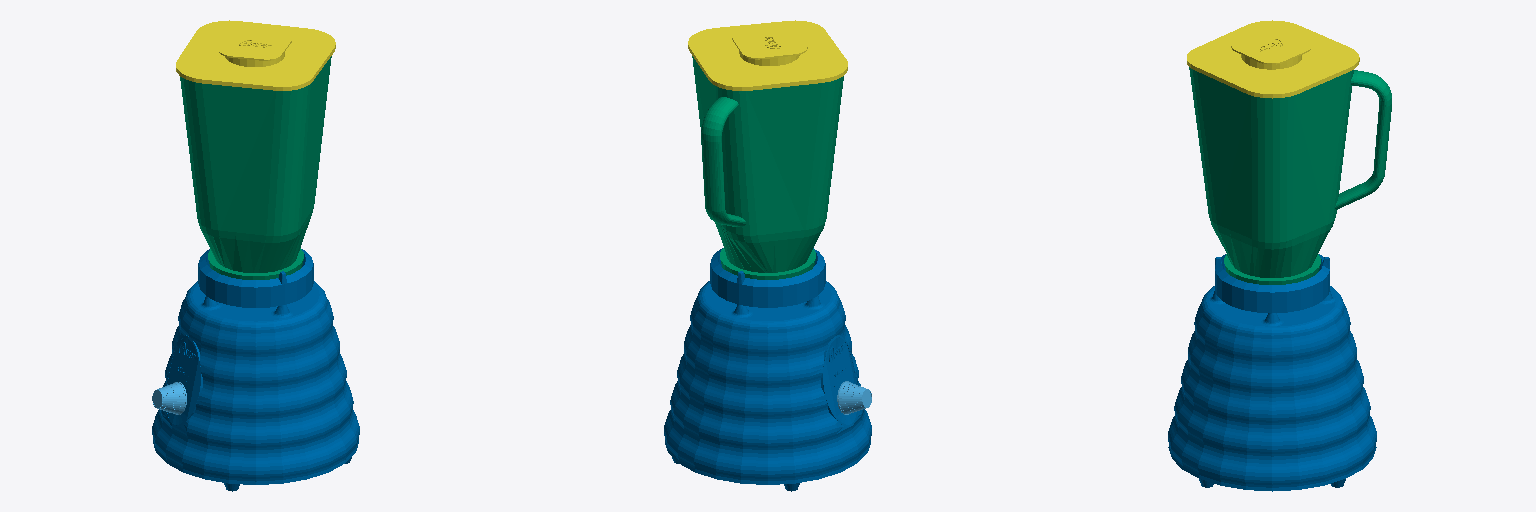
URDF robot description (partnet_748ce3537aba9c59931f48202f034c81):
<?xml version="1.0" ?>
<robot name="partnet_748ce3537aba9c59931f48202f034c81">
	<link name="base"/>
	<link name="link_0">
		<visual name="knob-1">
			<origin xyz="-0.011129215091225692 0.643000788359219 -0.13660822848957338"/>
			<geometry>
				<mesh filename="textured_objs/original-36.obj"/>
			</geometry>
		</visual>
		<collision>
			<origin xyz="-0.011129215091225692 0.643000788359219 -0.13660822848957338"/>
			<geometry>
				<mesh filename="textured_objs/original-36.obj"/>
			</geometry>
		</collision>
	</link>
	<joint name="joint_0" type="continuous">
		<origin xyz="0.011129215091225692 -0.643000788359219 0.13660822848957338"/>
		<axis xyz="0.00021668848141085542 -0.20781231377072745 -0.9781686947001313"/>
		<child link="link_0"/>
		<parent link="link_3"/>
	</joint>
	<link name="link_1">
		<visual name="container-2">
			<origin xyz="0 0 0"/>
			<geometry>
				<mesh filename="textured_objs/original-5.obj"/>
			</geometry>
		</visual>
		<visual name="container-2">
			<origin xyz="0 0 0"/>
			<geometry>
				<mesh filename="textured_objs/original-2.obj"/>
			</geometry>
		</visual>
		<visual name="container-2">
			<origin xyz="0 0 0"/>
			<geometry>
				<mesh filename="textured_objs/original-3.obj"/>
			</geometry>
		</visual>
		<visual name="container-2">
			<origin xyz="0 0 0"/>
			<geometry>
				<mesh filename="textured_objs/original-7.obj"/>
			</geometry>
		</visual>
		<collision>
			<origin xyz="0 0 0"/>
			<geometry>
				<mesh filename="textured_objs/original-5.obj"/>
			</geometry>
		</collision>
		<collision>
			<origin xyz="0 0 0"/>
			<geometry>
				<mesh filename="textured_objs/original-2.obj"/>
			</geometry>
		</collision>
		<collision>
			<origin xyz="0 0 0"/>
			<geometry>
				<mesh filename="textured_objs/original-3.obj"/>
			</geometry>
		</collision>
		<collision>
			<origin xyz="0 0 0"/>
			<geometry>
				<mesh filename="textured_objs/original-7.obj"/>
			</geometry>
		</collision>
	</link>
	<joint name="joint_1" type="prismatic">
		<origin xyz="0 0 0"/>
		<axis xyz="0 1 0"/>
		<child link="link_1"/>
		<parent link="link_3"/>
		<limit lower="0" upper="0.13"/>
	</joint>
	<link name="link_2">
		<visual name="lid-3">
			<origin xyz="0 0 0"/>
			<geometry>
				<mesh filename="textured_objs/original-4.obj"/>
			</geometry>
		</visual>
		<collision>
			<origin xyz="0 0 0"/>
			<geometry>
				<mesh filename="textured_objs/original-4.obj"/>
			</geometry>
		</collision>
	</link>
	<joint name="joint_2" type="prismatic">
		<origin xyz="0 0 0"/>
		<axis xyz="0 1 0"/>
		<child link="link_2"/>
		<parent link="link_1"/>
		<limit lower="0" upper="0.06"/>
	</joint>
	<link name="link_3">
		<visual name="base_body-4">
			<origin xyz="0 0 0"/>
			<geometry>
				<mesh filename="textured_objs/original-29.obj"/>
			</geometry>
		</visual>
		<visual name="base_body-4">
			<origin xyz="0 0 0"/>
			<geometry>
				<mesh filename="textured_objs/original-21.obj"/>
			</geometry>
		</visual>
		<visual name="base_body-4">
			<origin xyz="0 0 0"/>
			<geometry>
				<mesh filename="textured_objs/original-30.obj"/>
			</geometry>
		</visual>
		<visual name="base_body-4">
			<origin xyz="0 0 0"/>
			<geometry>
				<mesh filename="textured_objs/original-22.obj"/>
			</geometry>
		</visual>
		<visual name="base_body-4">
			<origin xyz="0 0 0"/>
			<geometry>
				<mesh filename="textured_objs/original-26.obj"/>
			</geometry>
		</visual>
		<visual name="base_body-4">
			<origin xyz="0 0 0"/>
			<geometry>
				<mesh filename="textured_objs/original-33.obj"/>
			</geometry>
		</visual>
		<visual name="base_body-4">
			<origin xyz="0 0 0"/>
			<geometry>
				<mesh filename="textured_objs/original-16.obj"/>
			</geometry>
		</visual>
		<visual name="base_body-4">
			<origin xyz="0 0 0"/>
			<geometry>
				<mesh filename="textured_objs/original-8.obj"/>
			</geometry>
		</visual>
		<visual name="base_body-4">
			<origin xyz="0 0 0"/>
			<geometry>
				<mesh filename="textured_objs/original-9.obj"/>
			</geometry>
		</visual>
		<visual name="base_body-4">
			<origin xyz="0 0 0"/>
			<geometry>
				<mesh filename="textured_objs/original-35.obj"/>
			</geometry>
		</visual>
		<visual name="base_body-4">
			<origin xyz="0 0 0"/>
			<geometry>
				<mesh filename="textured_objs/original-27.obj"/>
			</geometry>
		</visual>
		<visual name="base_body-4">
			<origin xyz="0 0 0"/>
			<geometry>
				<mesh filename="textured_objs/original-6.obj"/>
			</geometry>
		</visual>
		<visual name="base_body-4">
			<origin xyz="0 0 0"/>
			<geometry>
				<mesh filename="textured_objs/original-31.obj"/>
			</geometry>
		</visual>
		<visual name="base_body-4">
			<origin xyz="0 0 0"/>
			<geometry>
				<mesh filename="textured_objs/original-37.obj"/>
			</geometry>
		</visual>
		<visual name="base_body-4">
			<origin xyz="0 0 0"/>
			<geometry>
				<mesh filename="textured_objs/original-15.obj"/>
			</geometry>
		</visual>
		<visual name="base_body-4">
			<origin xyz="0 0 0"/>
			<geometry>
				<mesh filename="textured_objs/original-23.obj"/>
			</geometry>
		</visual>
		<visual name="base_body-4">
			<origin xyz="0 0 0"/>
			<geometry>
				<mesh filename="textured_objs/original-11.obj"/>
			</geometry>
		</visual>
		<visual name="base_body-4">
			<origin xyz="0 0 0"/>
			<geometry>
				<mesh filename="textured_objs/original-34.obj"/>
			</geometry>
		</visual>
		<visual name="base_body-4">
			<origin xyz="0 0 0"/>
			<geometry>
				<mesh filename="textured_objs/original-18.obj"/>
			</geometry>
		</visual>
		<visual name="base_body-4">
			<origin xyz="0 0 0"/>
			<geometry>
				<mesh filename="textured_objs/original-25.obj"/>
			</geometry>
		</visual>
		<visual name="base_body-4">
			<origin xyz="0 0 0"/>
			<geometry>
				<mesh filename="textured_objs/original-12.obj"/>
			</geometry>
		</visual>
		<visual name="base_body-4">
			<origin xyz="0 0 0"/>
			<geometry>
				<mesh filename="textured_objs/original-20.obj"/>
			</geometry>
		</visual>
		<visual name="base_body-4">
			<origin xyz="0 0 0"/>
			<geometry>
				<mesh filename="textured_objs/original-14.obj"/>
			</geometry>
		</visual>
		<visual name="base_body-4">
			<origin xyz="0 0 0"/>
			<geometry>
				<mesh filename="textured_objs/original-19.obj"/>
			</geometry>
		</visual>
		<collision>
			<origin xyz="0 0 0"/>
			<geometry>
				<mesh filename="textured_objs/original-29.obj"/>
			</geometry>
		</collision>
		<collision>
			<origin xyz="0 0 0"/>
			<geometry>
				<mesh filename="textured_objs/original-21.obj"/>
			</geometry>
		</collision>
		<collision>
			<origin xyz="0 0 0"/>
			<geometry>
				<mesh filename="textured_objs/original-30.obj"/>
			</geometry>
		</collision>
		<collision>
			<origin xyz="0 0 0"/>
			<geometry>
				<mesh filename="textured_objs/original-22.obj"/>
			</geometry>
		</collision>
		<collision>
			<origin xyz="0 0 0"/>
			<geometry>
				<mesh filename="textured_objs/original-26.obj"/>
			</geometry>
		</collision>
		<collision>
			<origin xyz="0 0 0"/>
			<geometry>
				<mesh filename="textured_objs/original-33.obj"/>
			</geometry>
		</collision>
		<collision>
			<origin xyz="0 0 0"/>
			<geometry>
				<mesh filename="textured_objs/original-16.obj"/>
			</geometry>
		</collision>
		<collision>
			<origin xyz="0 0 0"/>
			<geometry>
				<mesh filename="textured_objs/original-8.obj"/>
			</geometry>
		</collision>
		<collision>
			<origin xyz="0 0 0"/>
			<geometry>
				<mesh filename="textured_objs/original-9.obj"/>
			</geometry>
		</collision>
		<collision>
			<origin xyz="0 0 0"/>
			<geometry>
				<mesh filename="textured_objs/original-35.obj"/>
			</geometry>
		</collision>
		<collision>
			<origin xyz="0 0 0"/>
			<geometry>
				<mesh filename="textured_objs/original-27.obj"/>
			</geometry>
		</collision>
		<collision>
			<origin xyz="0 0 0"/>
			<geometry>
				<mesh filename="textured_objs/original-6.obj"/>
			</geometry>
		</collision>
		<collision>
			<origin xyz="0 0 0"/>
			<geometry>
				<mesh filename="textured_objs/original-31.obj"/>
			</geometry>
		</collision>
		<collision>
			<origin xyz="0 0 0"/>
			<geometry>
				<mesh filename="textured_objs/original-37.obj"/>
			</geometry>
		</collision>
		<collision>
			<origin xyz="0 0 0"/>
			<geometry>
				<mesh filename="textured_objs/original-15.obj"/>
			</geometry>
		</collision>
		<collision>
			<origin xyz="0 0 0"/>
			<geometry>
				<mesh filename="textured_objs/original-23.obj"/>
			</geometry>
		</collision>
		<collision>
			<origin xyz="0 0 0"/>
			<geometry>
				<mesh filename="textured_objs/original-11.obj"/>
			</geometry>
		</collision>
		<collision>
			<origin xyz="0 0 0"/>
			<geometry>
				<mesh filename="textured_objs/original-34.obj"/>
			</geometry>
		</collision>
		<collision>
			<origin xyz="0 0 0"/>
			<geometry>
				<mesh filename="textured_objs/original-18.obj"/>
			</geometry>
		</collision>
		<collision>
			<origin xyz="0 0 0"/>
			<geometry>
				<mesh filename="textured_objs/original-25.obj"/>
			</geometry>
		</collision>
		<collision>
			<origin xyz="0 0 0"/>
			<geometry>
				<mesh filename="textured_objs/original-12.obj"/>
			</geometry>
		</collision>
		<collision>
			<origin xyz="0 0 0"/>
			<geometry>
				<mesh filename="textured_objs/original-20.obj"/>
			</geometry>
		</collision>
		<collision>
			<origin xyz="0 0 0"/>
			<geometry>
				<mesh filename="textured_objs/original-14.obj"/>
			</geometry>
		</collision>
		<collision>
			<origin xyz="0 0 0"/>
			<geometry>
				<mesh filename="textured_objs/original-19.obj"/>
			</geometry>
		</collision>
	</link>
	<joint name="joint_3" type="fixed">
		<origin rpy="1.570796326794897 0 -1.570796326794897" xyz="0 0 0"/>
		<child link="link_3"/>
		<parent link="base"/>
	</joint>
</robot>

--- Facts derived from the render (not from the file) ---
3 views of the same robot in one strip: view 1: azimuth 30°, elevation 25°; view 2: azimuth 150°, elevation 25°; view 3: azimuth 270°, elevation 25° (orthographic).
Robot: partnet_748ce3537aba9c59931f48202f034c81 — 5 links, 4 joints (1 continuous, 2 prismatic, 1 fixed); root link base; default pose: all joints at 0.
Links seen in each view (by area): view 1: link_3, link_1, link_2, link_0; view 2: link_3, link_1, link_2, link_0; view 3: link_3, link_1, link_2.
Boxes of the visible links, x1,y1,x2,y2 form: link_3: (152, 249, 359, 491); link_1: (180, 56, 331, 279); link_2: (176, 20, 335, 90); link_0: (152, 382, 186, 414); link_3: (664, 248, 871, 491); link_1: (692, 56, 843, 279); link_2: (688, 20, 847, 90); link_0: (837, 381, 871, 414); link_3: (1168, 254, 1376, 491); link_1: (1189, 67, 1391, 284); link_2: (1187, 20, 1359, 98).
Size in the robot's own frame: 0.9376 by 0.9509 by 1.92 metres.
30 mesh visuals loaded from 30 distinct referenced files (30 OBJ).
